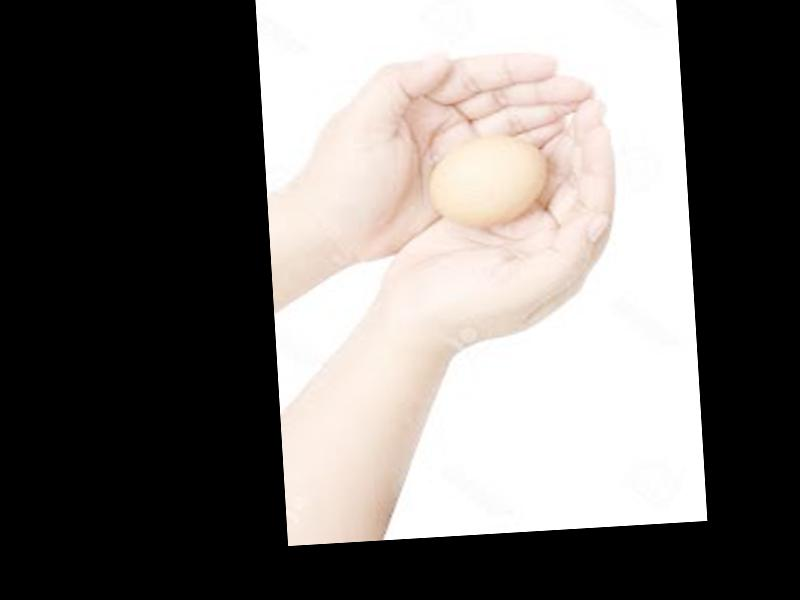Eggs: (429, 135, 546, 229)
